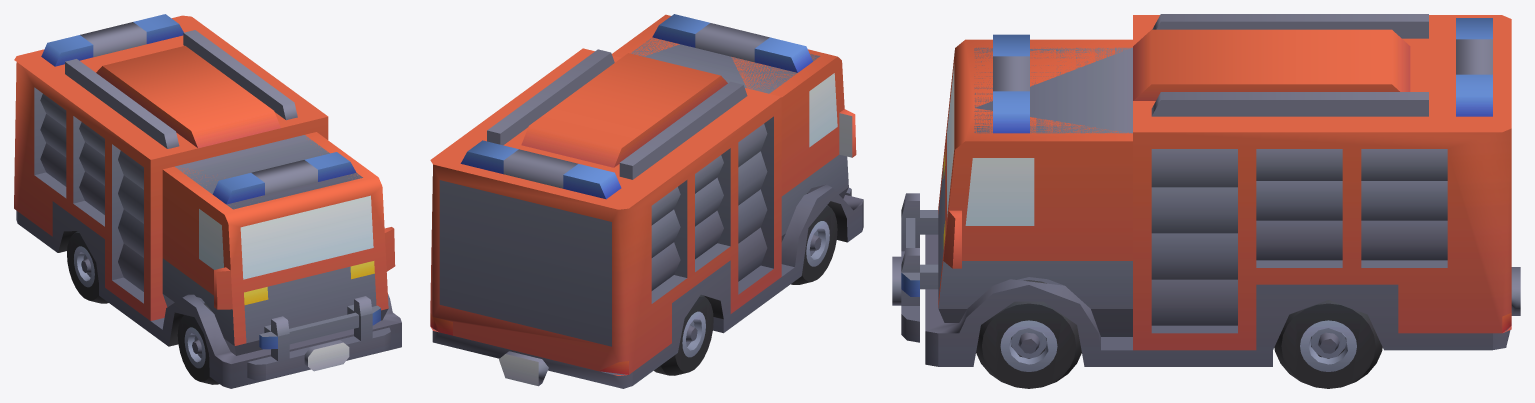
The model's file is 024_car-kit_firetruck_card.glb.
3 views of the same model, side by side, from view 1: azimuth 30°, elevation 25°; view 2: azimuth 150°, elevation 25°; view 3: azimuth 270°, elevation 25° (orthographic). The views are drawn at different scales.
Visible parts, largest first — view 1: body, grill, wheel-front-right, wheel-back-right; view 2: body, wheel-back-right, wheel-front-right; view 3: body, wheel-front-left, wheel-back-left, grill.
Part boxes in pixels (left/top/right/bottom): body: left=14, top=14, right=401, bottom=388; grill: left=247, top=296, right=390, bottom=380; wheel-front-right: left=177, top=303, right=219, bottom=384; wheel-back-right: left=67, top=231, right=108, bottom=303; body: left=430, top=14, right=863, bottom=388; wheel-back-right: left=654, top=294, right=713, bottom=375; wheel-front-right: left=791, top=205, right=837, bottom=284; body: left=925, top=14, right=1520, bottom=366; wheel-front-left: left=976, top=280, right=1081, bottom=388; wheel-back-left: left=1274, top=300, right=1382, bottom=388; grill: left=892, top=193, right=938, bottom=342.
Size of the model in its own units: 1.5 by 1.7 by 3.4.
1 material, 1 textured.
